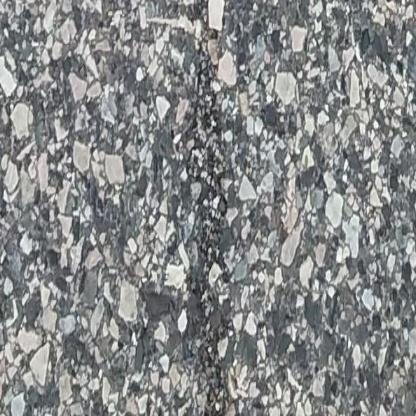Cracks: (206, 0, 241, 416)
